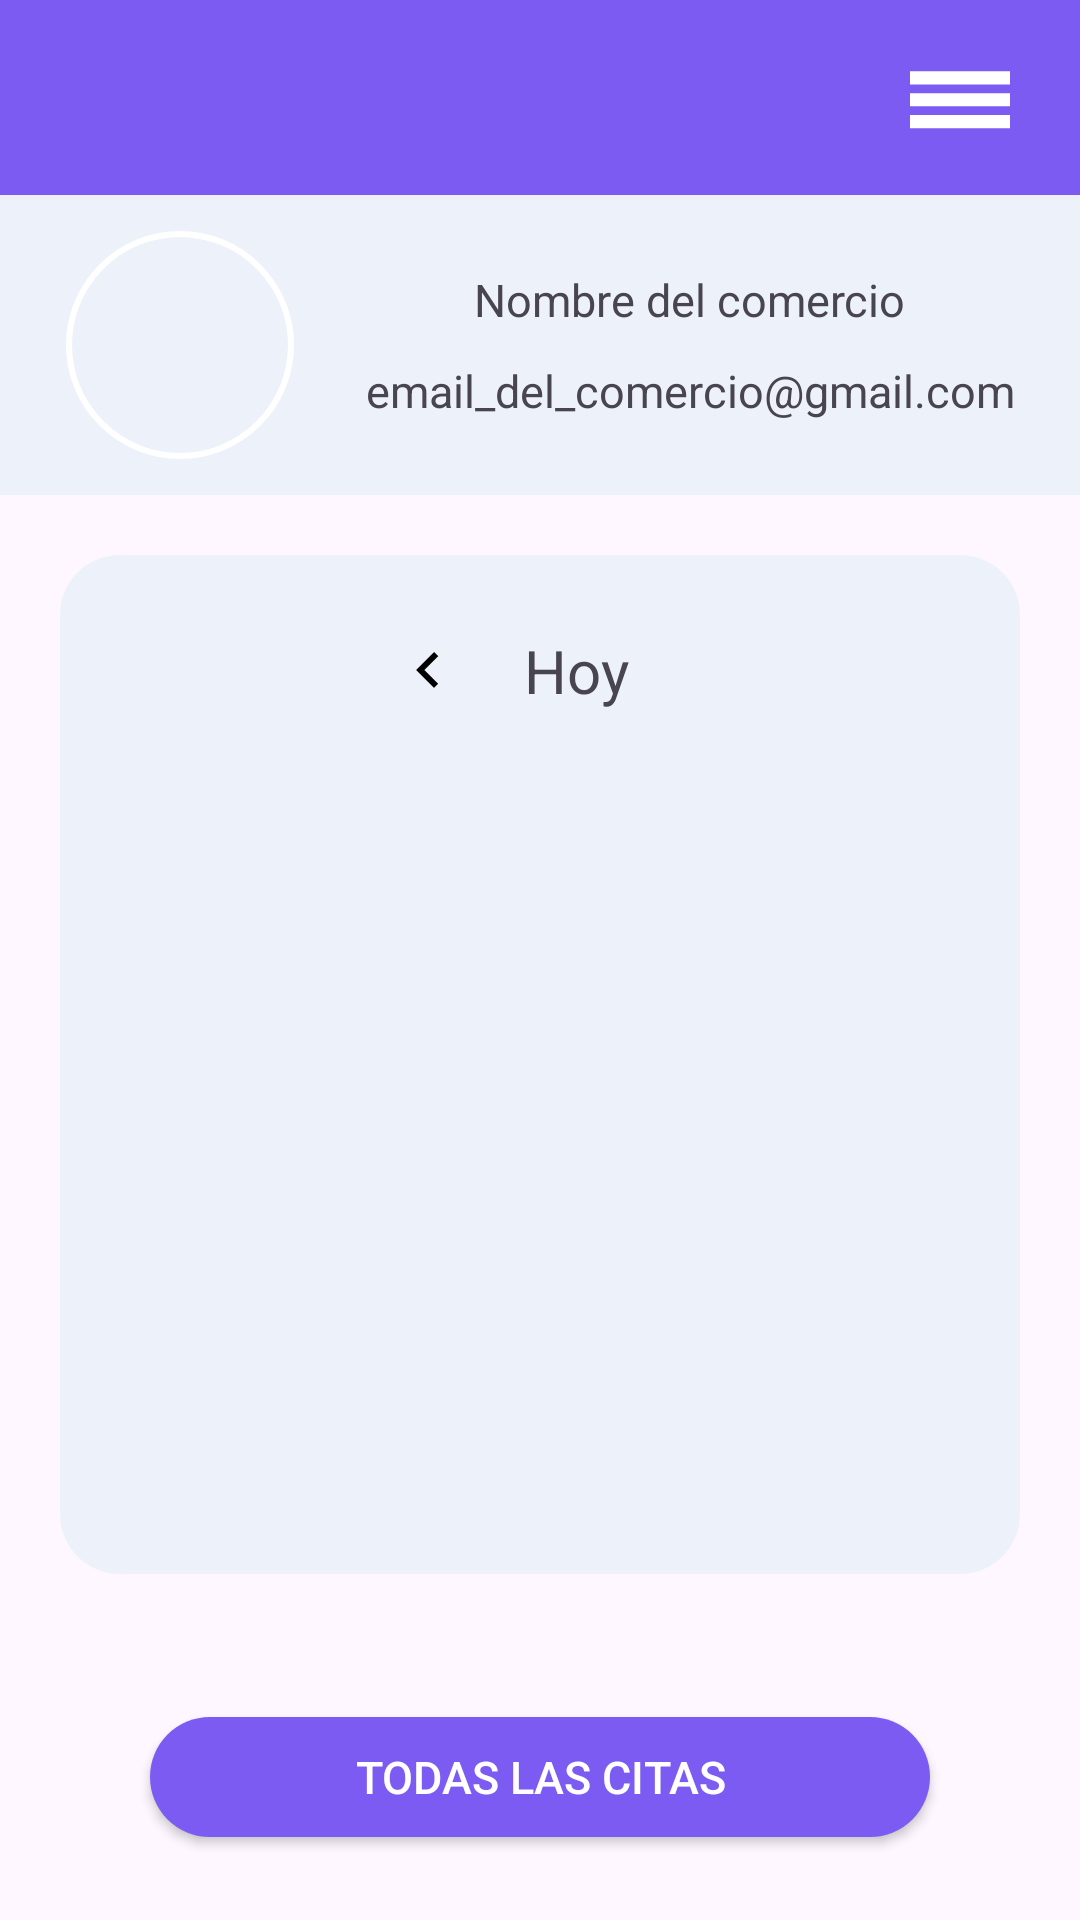

Icons on this 1080 x 1920 Android screen, each with its box as (x1, y1, x2, y2):
keyboard arrow back: (416, 652, 438, 688)
menu: (910, 71, 1010, 129)
